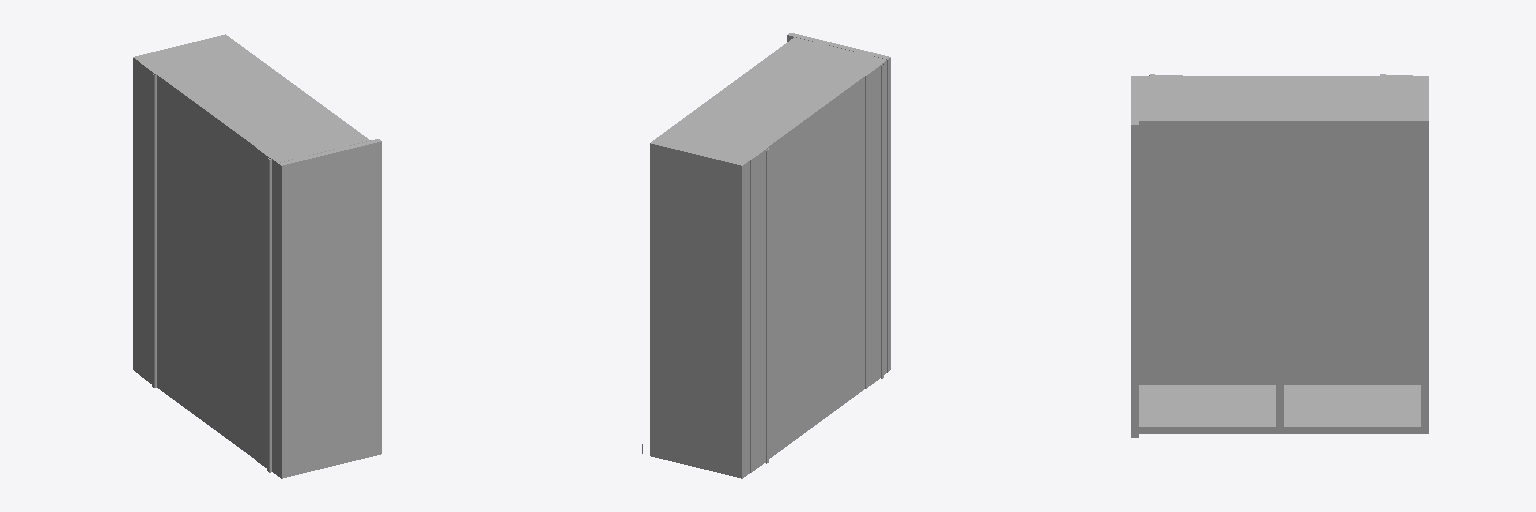
File: none_motion.obj
The picture shows the model from 3 angles: view 1: azimuth 30°, elevation 25°; view 2: azimuth 150°, elevation 25°; view 3: azimuth 270°, elevation 25°; orthographic projection.
Parts seen in each view (by area): view 1: rootd_$$001_object__37_o21_o2062_p657_Geometry_0, rootd_$$001_object__25_o13_o1238_p399_Geometry_0, rootd_$$001_object__29_o15_o1444_p629_Geometry_0, rootd_$$001_object__21_o10_o929_p175_Geometry_0, rootd_$$001_object__27_o14_o1341_p409_Geometry_0, rootd_$$001_object__43_o26_o2577_p675_Geometry_0; view 2: rootd_$$001_object__37_o21_o2062_p657_Geometry_0, rootd_$$001_object__33_o18_o1753_p643_Geometry_0, rootd_$$001_object__29_o15_o1444_p629_Geometry_0, rootd_$$001_object__27_o14_o1341_p409_Geometry_0, rootd_$$001_object__21_o10_o929_p175_Geometry_0, rootd_$$001_object__43_o26_o2577_p675_Geometry_0, rootd_$$001_object__25_o13_o1238_p399_Geometry_0; view 3: rootd_$$001_object__38_o22_o2165_p667_Geometry_0, rootd_$$001_back_faces_of_objec5_o23_o2268_p669_Geometry_0, rootd_$$001_object__29_o15_o1444_p629_Geometry_0, rootd_$$001_object__41_o24_o2371_p671_Geometry_0, rootd_$$001_back_faces_of_objec6_o25_o2474_p673_Geometry_0, rootd_$$001_object__25_o13_o1238_p399_Geometry_0, rootd_$$001_object__33_o18_o1753_p643_Geometry_0, rootd_$$001_object__43_o26_o2577_p675_Geometry_0, rootd_$$001_object__18_o8_o7_p151_Geometry_0, rootd_$$001_back_faces_of_objec1_o9_o826_p163_Geometry_0.
Part boxes in pixels (x1,y1,x2,y2): rootd_$$001_object__37_o21_o2062_p657_Geometry_0: (133, 64, 277, 468); rootd_$$001_object__25_o13_o1238_p399_Geometry_0: (278, 139, 381, 478); rootd_$$001_object__29_o15_o1444_p629_Geometry_0: (133, 34, 370, 169); rootd_$$001_object__21_o10_o929_p175_Geometry_0: (255, 147, 271, 472); rootd_$$001_object__27_o14_o1341_p409_Geometry_0: (140, 63, 156, 387); rootd_$$001_object__43_o26_o2577_p675_Geometry_0: (133, 364, 277, 475); rootd_$$001_object__37_o21_o2062_p657_Geometry_0: (736, 67, 886, 471); rootd_$$001_object__33_o18_o1753_p643_Geometry_0: (650, 150, 735, 469); rootd_$$001_object__29_o15_o1444_p629_Geometry_0: (650, 37, 886, 171); rootd_$$001_object__27_o14_o1341_p409_Geometry_0: (750, 148, 768, 472); rootd_$$001_object__21_o10_o929_p175_Geometry_0: (865, 64, 883, 388); rootd_$$001_object__43_o26_o2577_p675_Geometry_0: (650, 367, 886, 478); rootd_$$001_object__25_o13_o1238_p399_Geometry_0: (788, 33, 890, 371); rootd_$$001_object__38_o22_o2165_p667_Geometry_0: (1139, 128, 1420, 384); rootd_$$001_back_faces_of_objec5_o23_o2268_p669_Geometry_0: (1139, 128, 1420, 384); rootd_$$001_object__29_o15_o1444_p629_Geometry_0: (1139, 76, 1428, 127); rootd_$$001_object__41_o24_o2371_p671_Geometry_0: (1139, 385, 1420, 426); rootd_$$001_back_faces_of_objec6_o25_o2474_p673_Geometry_0: (1139, 385, 1420, 426); rootd_$$001_object__25_o13_o1238_p399_Geometry_0: (1131, 76, 1138, 437); rootd_$$001_object__33_o18_o1753_p643_Geometry_0: (1421, 128, 1428, 426); rootd_$$001_object__43_o26_o2577_p675_Geometry_0: (1139, 427, 1428, 433); rootd_$$001_object__18_o8_o7_p151_Geometry_0: (1276, 128, 1283, 426); rootd_$$001_back_faces_of_objec1_o9_o826_p163_Geometry_0: (1276, 129, 1283, 423).
Size of the model in its own units: 0.3457 by 1 by 0.8611.